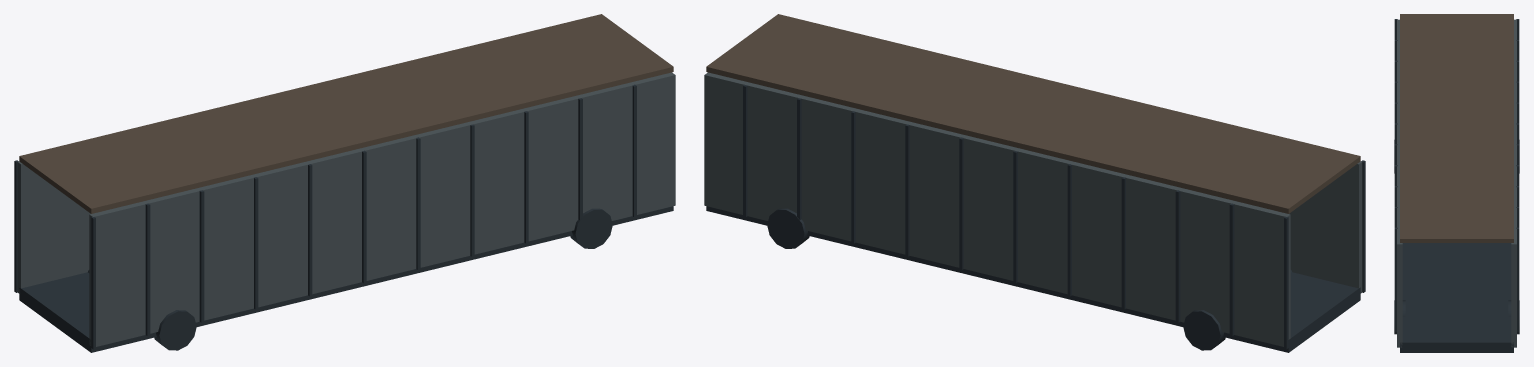
Rendered from freight-car-2.glb.
The picture shows the model from 3 angles, left to right: view 1: azimuth 30°, elevation 25°; view 2: azimuth 150°, elevation 25°; view 3: azimuth 270°, elevation 25°; orthographic projection. The views are drawn at different scales.
Visible parts, largest first — view 1: freight-car/1/KR-230-2; view 2: freight-car/1/KR-230-2; view 3: freight-car/1/KR-230-2.
Boxes of the visible parts, x1,y1,x2,y2 form: freight-car/1/KR-230-2: (14,14,675,352); freight-car/1/KR-230-2: (704,14,1365,352); freight-car/1/KR-230-2: (1394,14,1519,352).
Size of the model in its own units: 14.03 by 3.66 by 3.3.
